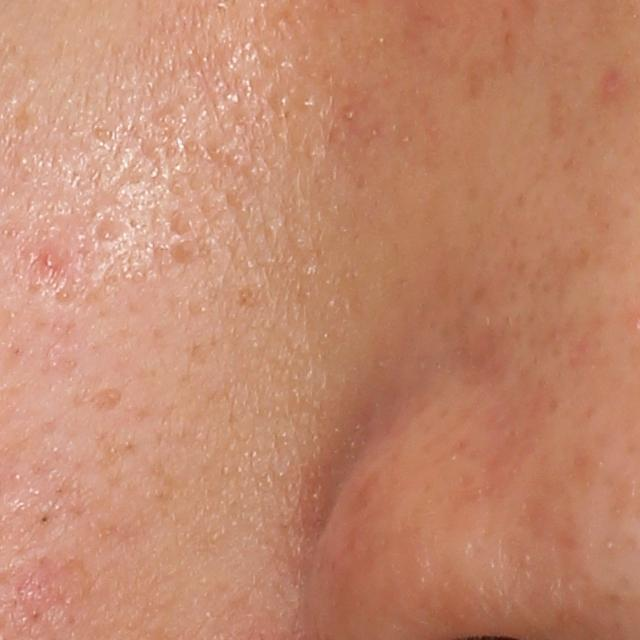atrophic_scar: (85, 386, 126, 418), (89, 216, 129, 243)
